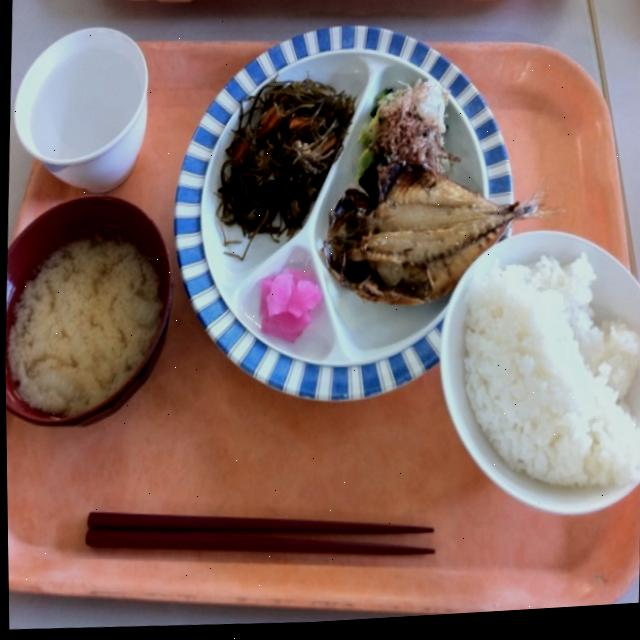米饭主食: (441, 230, 640, 519)
